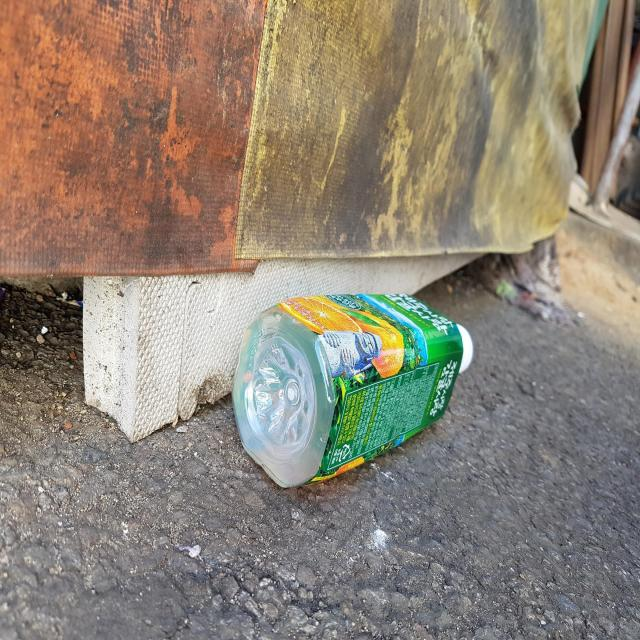plastic: (233, 294, 474, 488)
